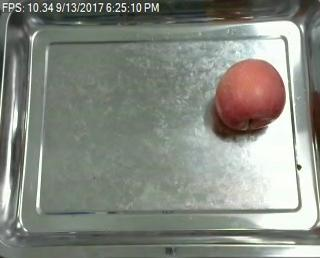apple: (215, 59, 286, 132)
